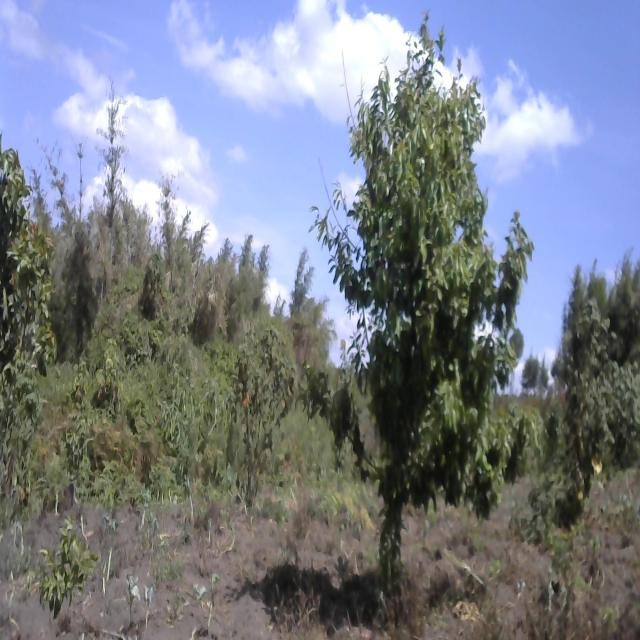Croton machrostychus: (230, 322, 296, 498)
Prunus Africana: (336, 55, 512, 629), (0, 120, 59, 542)
